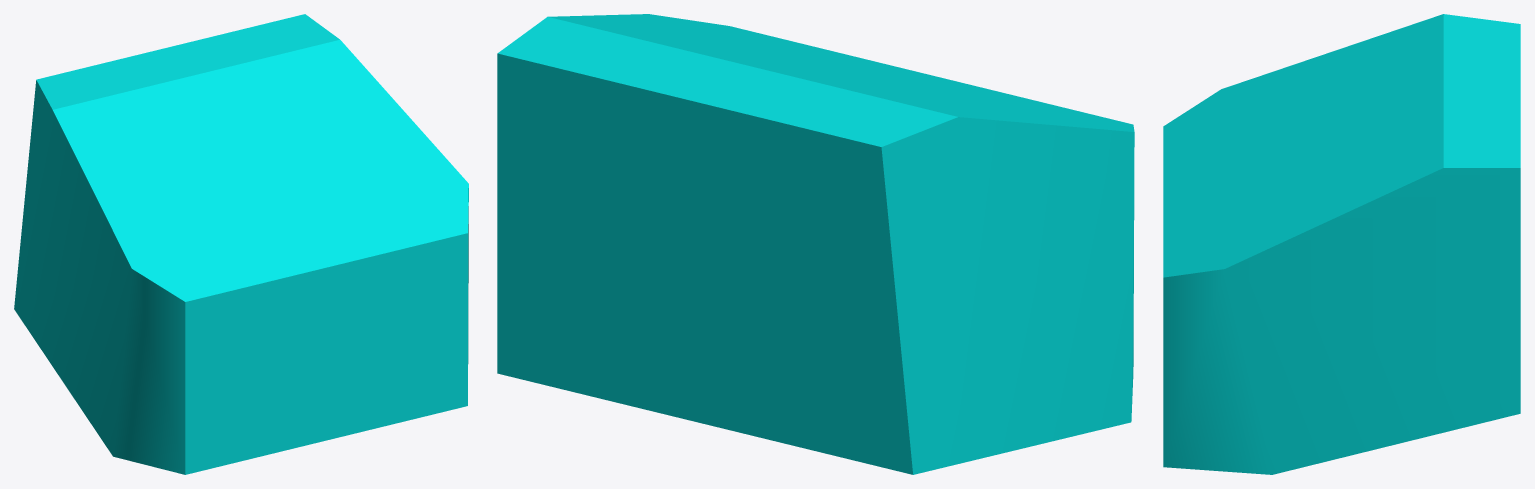
The model's file is SM_Env_Stone_Stairs_01_Collision.fbx.
3 renders of one model, left to right at view 1: azimuth 30°, elevation 25°; view 2: azimuth 150°, elevation 25°; view 3: azimuth 270°, elevation 25°, orthographic. The views are drawn at different scales.
Parts seen in each view (by area): view 1: SM_Env_Stone_Stairs_01_Collision; view 2: SM_Env_Stone_Stairs_01_Collision; view 3: SM_Env_Stone_Stairs_01_Collision.
Part boxes in pixels (box(x1,y1,x2,y2)): SM_Env_Stone_Stairs_01_Collision: box(14, 14, 468, 474); SM_Env_Stone_Stairs_01_Collision: box(497, 14, 1134, 474); SM_Env_Stone_Stairs_01_Collision: box(1163, 14, 1520, 474).
Bounding box in the file's own units: 213 × 160 × 173.
